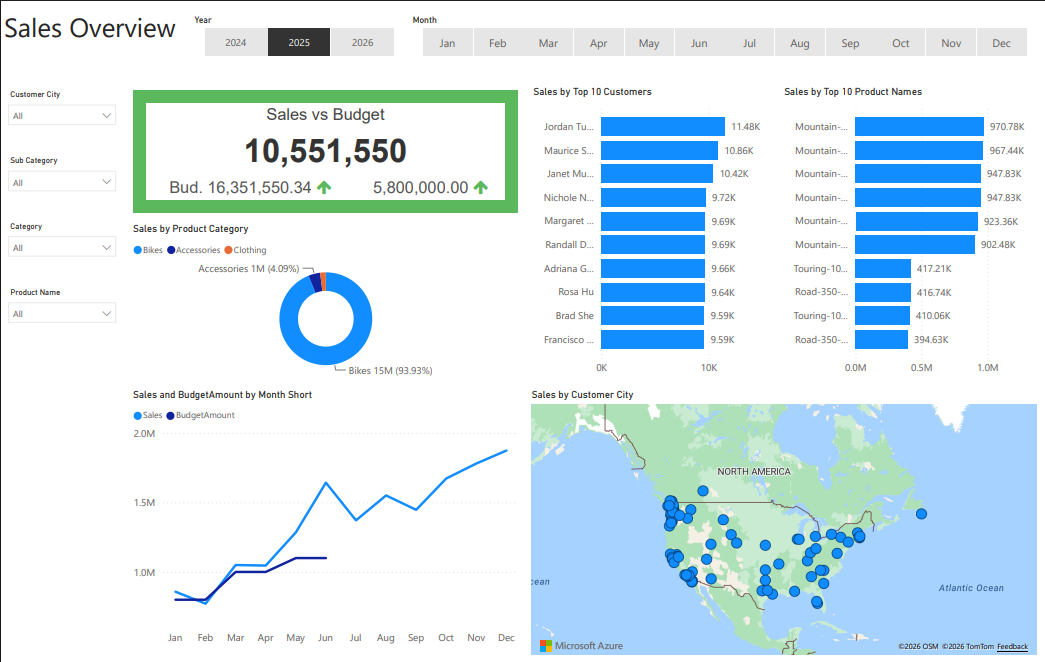

What the dashboard file says about the page in this screenshot:
{"tool":"powerbi","page":{"name":"Sales Overview","canvas":[1280,800],"ordinal":0},"visuals":[{"type":"textbox","box":[0,0,1280.4,100],"z":0},{"type":"slicer","fields":{"Values":["DIM_Customer csv.Customer City"]},"box":[0,100.3,152,72.8],"z":1000},{"type":"slicer","fields":{"Values":["DIM_Products csv.Sub Category"]},"box":[0,180.5,152,72.8],"z":2000},{"type":"slicer","fields":{"Values":["DIM_Products csv.Product Category"]},"box":[0,260.8,152,72.8],"z":3000},{"type":"slicer","fields":{"Values":["DIM_Products csv.Product Name"]},"box":[0,342.1,152,72.8],"z":4000},{"type":"slicer","fields":{"Values":["DIM_Calendar csv.Year"]},"box":[224.9,8.4,280.8,62.3],"z":5000},{"type":"slicer","fields":{"Values":["DIM_Calendar csv.Month Short"]},"box":[492,8.4,787.6,62.3],"z":6000},{"type":"BBED0A4D4D8D44CE93CF2DAFADEE466C","fields":{"actual":["Key Measures.Sales-Budget"],"target1":["Key Measures.Sales"],"target2":["Key Measures.BudgetAmount"]},"box":[158.4,100.3,481.4,160.5],"z":7000},{"type":"donutChart","fields":{"Y":["Key Measures.Sales"],"Category":["DIM_Products csv.Product Category"]},"box":[158.4,268.2,481.4,194.3],"z":8000},{"type":"lineChart","fields":{"Y":["Key Measures.Sales","Key Measures.BudgetAmount"],"Category":["DIM_Calendar csv.Month Short"]},"box":[158.4,470.9,481.4,322],"z":9000},{"type":"barChart","title":"Sales by Top 10 Customers","fields":{"Y":["Key Measures.Sales"],"Category":["DIM_Customer csv.Full Name"]},"box":[648.3,100.3,299.8,362.1],"z":10000},{"type":"barChart","title":"Sales by Top 10 Product Names","fields":{"Y":["Key Measures.Sales"],"Category":["DIM_Products csv.Product Name"]},"box":[955.5,100.3,317.8,362.1],"z":11000},{"type":"azureMap","title":"Sales by Customer City","fields":{"Category":["DIM_Customer csv.Customer City"]},"box":[646.1,470.9,627.1,329.4],"z":12000}]}

Visuals, with their boxes in screenshot pixels (x1, y1, x2, y2), scaled from the page's 1280x800 canvas onto the 1045x662 screenshot:
textbox: crop(0, 0, 1044, 83)
slicer - DIM_Customer csv.Customer City: crop(0, 83, 124, 143)
slicer - DIM_Products csv.Sub Category: crop(0, 149, 124, 210)
slicer - DIM_Products csv.Product Category: crop(0, 216, 124, 276)
slicer - DIM_Products csv.Product Name: crop(0, 283, 124, 343)
slicer - DIM_Calendar csv.Year: crop(184, 7, 413, 59)
slicer - DIM_Calendar csv.Month Short: crop(402, 7, 1044, 59)
BBED0A4D4D8D44CE93CF2DAFADEE466C - Key Measures.Sales-Budget x Key Measures.Sales: crop(129, 83, 522, 216)
donutChart - Key Measures.Sales x DIM_Products csv.Product Category: crop(129, 222, 522, 383)
lineChart - Key Measures.Sales x Key Measures.BudgetAmount: crop(129, 390, 522, 656)
"Sales by Top 10 Customers" barChart: crop(529, 83, 774, 383)
"Sales by Top 10 Product Names" barChart: crop(780, 83, 1040, 383)
"Sales by Customer City" azureMap: crop(527, 390, 1039, 661)
